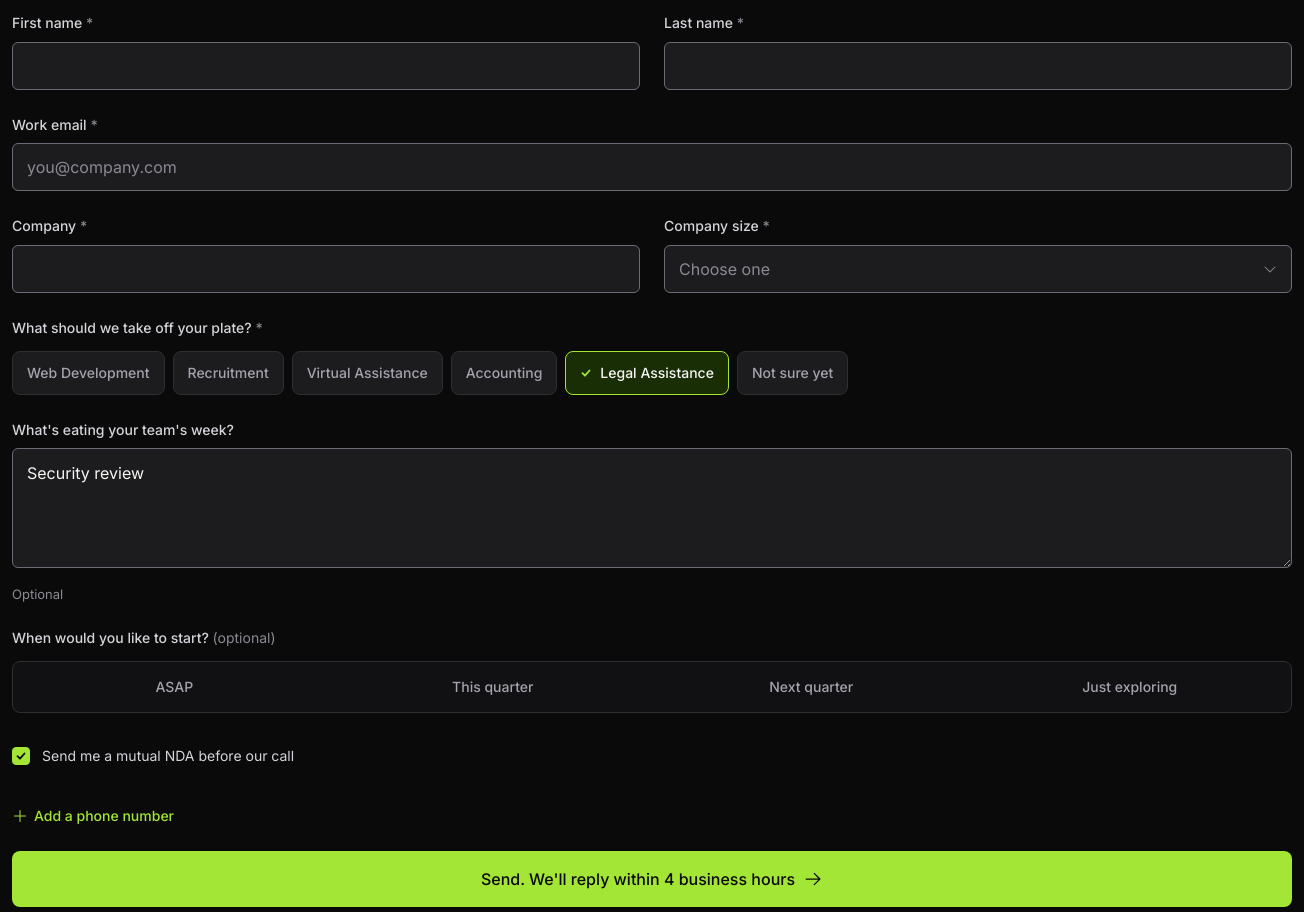
it: <ContactForm /> › applies prefills and reveals the optional phone field on request
Expected: the checkbox labelled "Legal Assistance" is checked, x1=565 y1=351 x2=729 y2=395
Expected: the checkbox labelled "Send me a mutual NDA before our call" is checked, x1=12 y1=747 x2=30 y2=765
Click the button "Add a phone number" at [93, 816], box x1=12 y1=805 x2=174 y2=826
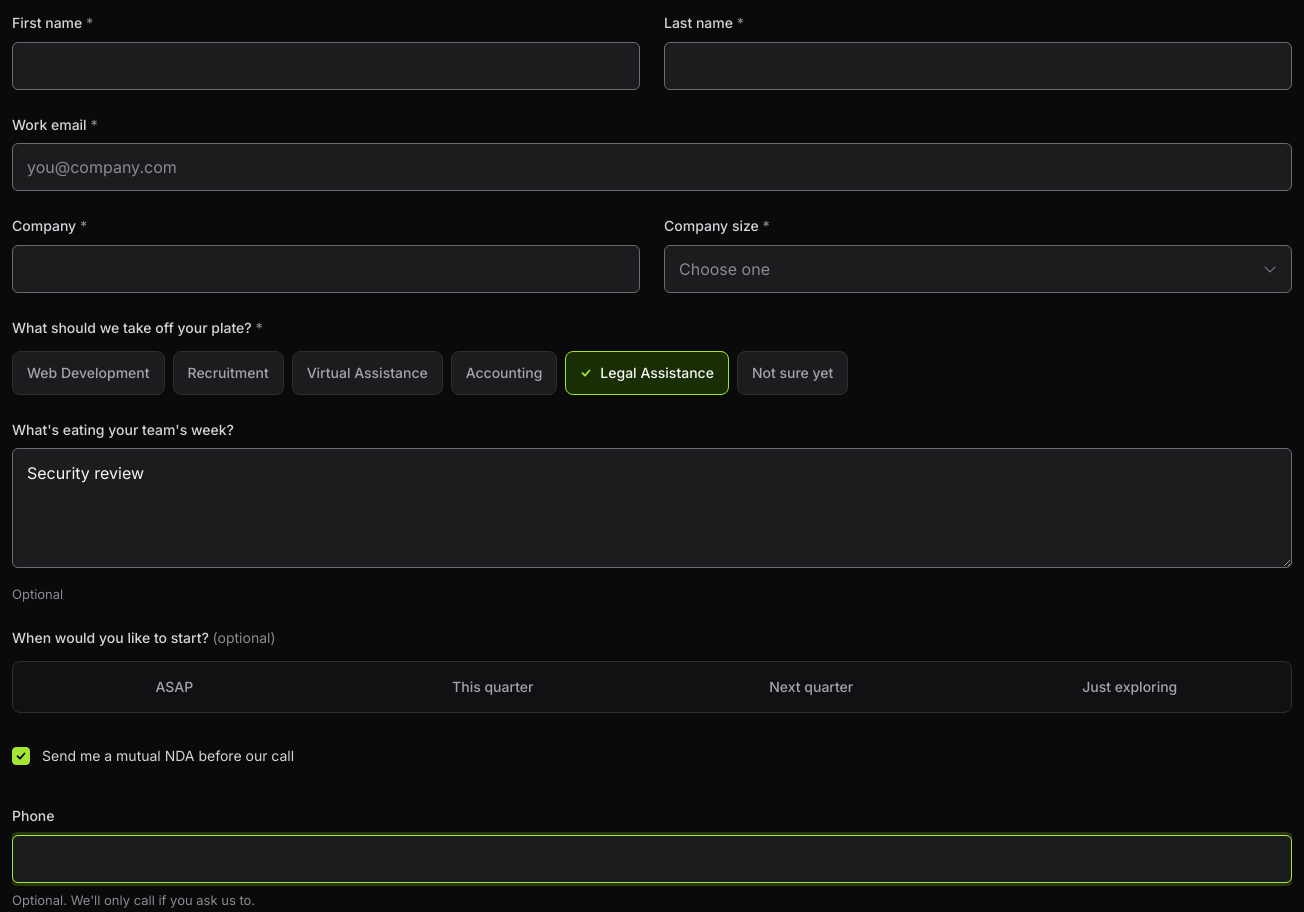
Now the field labelled "Phone" is shown, box x1=12 y1=834 x2=1292 y2=882
